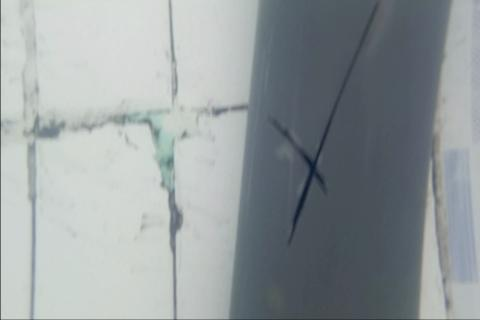keretakan: (265, 0, 380, 248)
